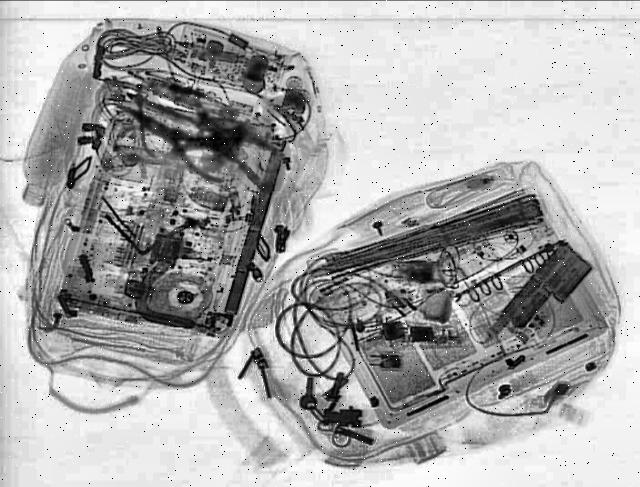Pliers: (102, 90, 250, 188)
